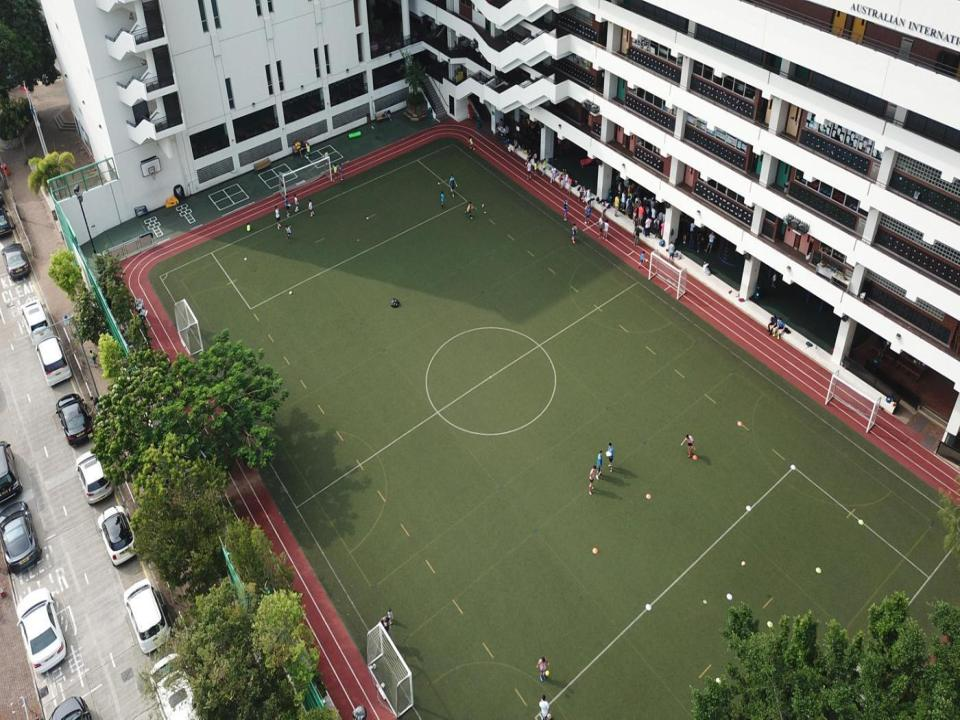car: (16, 588, 66, 674), (150, 649, 199, 719), (123, 578, 167, 654), (0, 501, 45, 572), (99, 506, 136, 567), (58, 394, 94, 447), (77, 450, 112, 503), (36, 336, 72, 386), (0, 439, 25, 502), (2, 241, 30, 282), (51, 695, 92, 719), (0, 203, 12, 241)
van: (21, 300, 51, 346)
